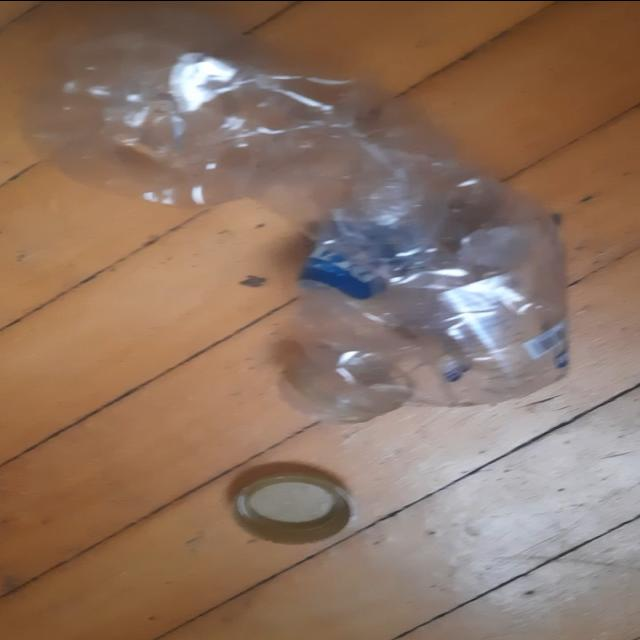Plastic: (43, 32, 570, 422)
